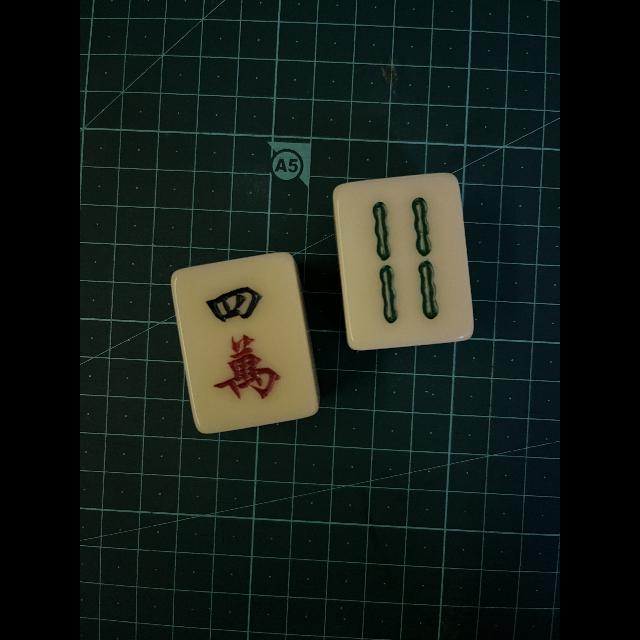b4: (345, 178, 465, 342)
c4: (184, 262, 302, 422)
